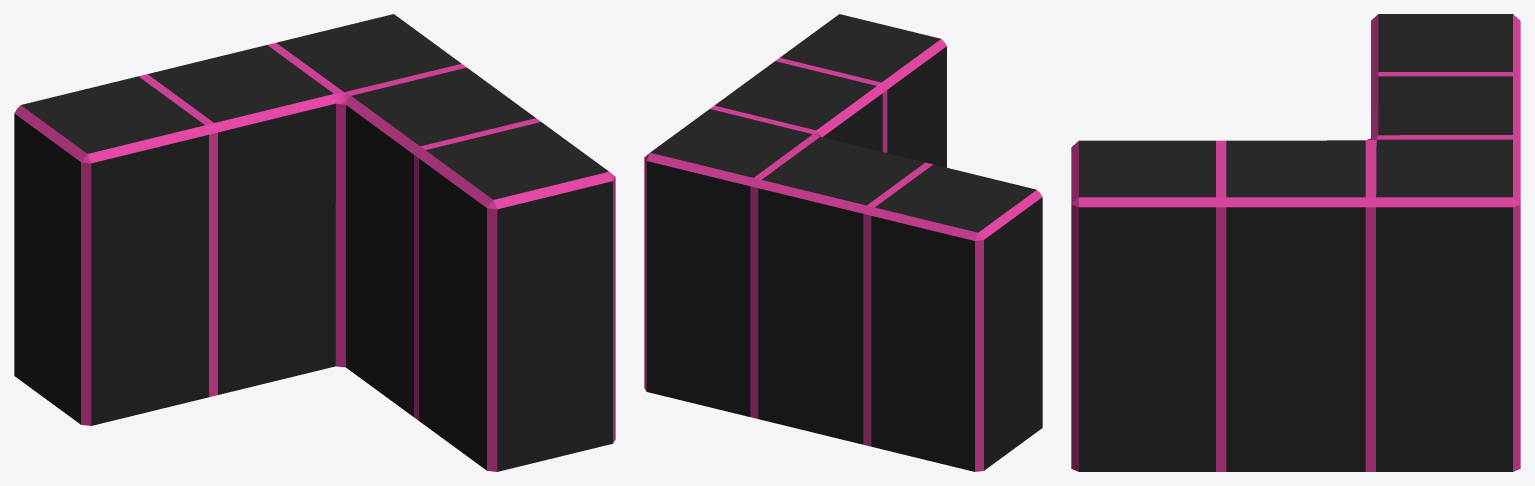
The model's file is Block3.fbx.
3 views of the same model, side by side, from view 1: azimuth 30°, elevation 25°; view 2: azimuth 150°, elevation 25°; view 3: azimuth 270°, elevation 25° (orthographic). The views are drawn at different scales.
Parts seen in each view (by area): view 1: polySurface14; view 2: polySurface14; view 3: polySurface14.
Part boxes in pixels (x1=…): polySurface14: x1=14, y1=14, x2=615, y2=471; polySurface14: x1=644, y1=14, x2=1042, y2=471; polySurface14: x1=1071, y1=14, x2=1520, y2=471.
Bounding box in the file's own units: 15 × 10 × 15.
Materials: 2 (2 with a texture image).
